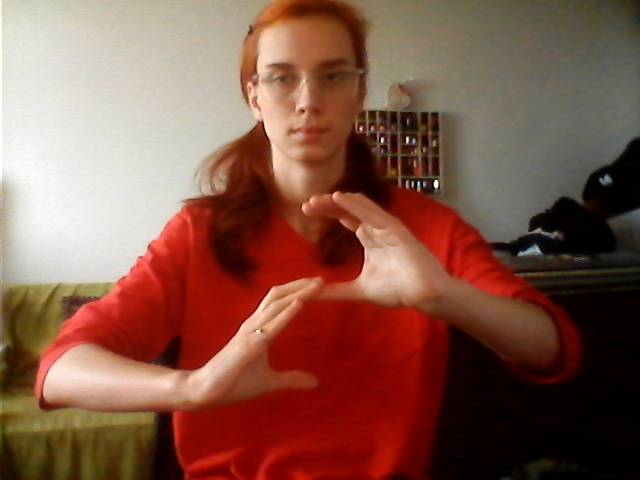s: (228, 188, 445, 410)
